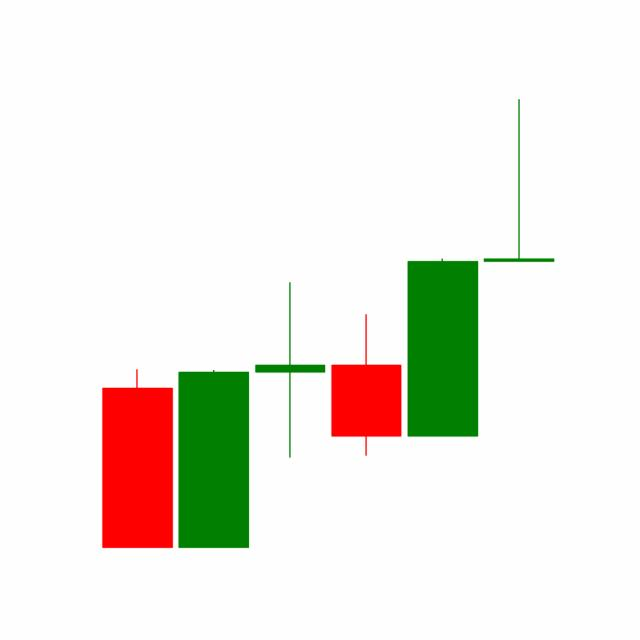Marubozu: (403, 255, 481, 438)
